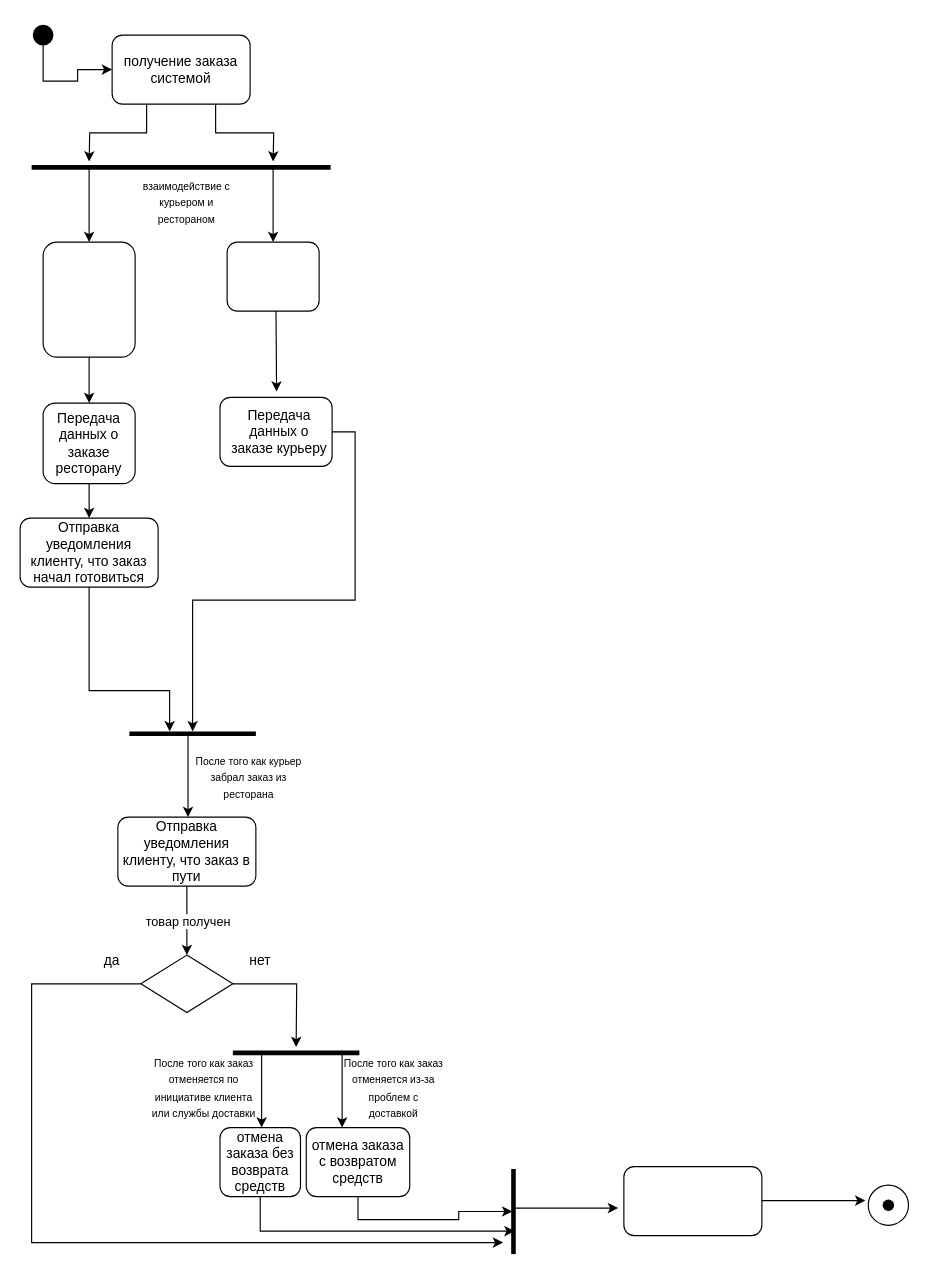
The diagram is 929 pixels wide and 1277 high, and some of its shapes have lost their labels. The shapes that lost their labels are listed below. From the top down, each one's box as (x1, y1, x2, y2) in pixels, then its label:
(226, 241, 319, 311): Поиск свободных курьеров
(42, 241, 135, 357): Поиск ближайшего к клиенту ресторана исходя из заказа
(623, 1166, 762, 1236): Отправка уведомления в приложении (оценка приложения)
